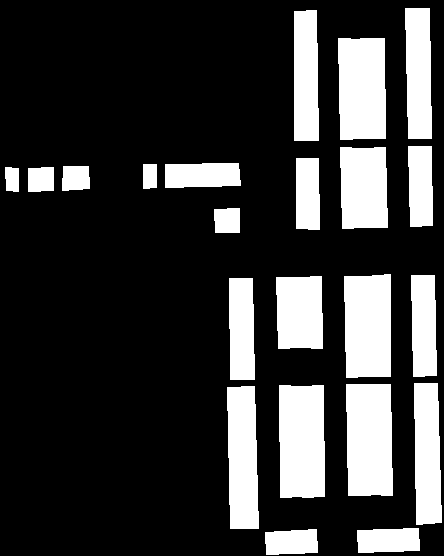parkingspot: (227, 386, 258, 528), (414, 383, 441, 524), (405, 8, 431, 138), (294, 10, 318, 140), (367, 384, 392, 495), (279, 385, 303, 497), (300, 385, 324, 497), (346, 384, 370, 495), (338, 38, 364, 139), (365, 274, 390, 376), (411, 275, 436, 376), (344, 276, 369, 377), (229, 278, 254, 379), (360, 38, 385, 138), (340, 147, 365, 228), (362, 147, 387, 227), (408, 146, 432, 226), (165, 163, 240, 187), (298, 276, 322, 348), (276, 277, 300, 348), (296, 158, 319, 229), (357, 528, 419, 552), (265, 529, 317, 554), (62, 166, 89, 190), (28, 167, 53, 191), (214, 208, 239, 232), (143, 164, 156, 188), (5, 167, 18, 191)
